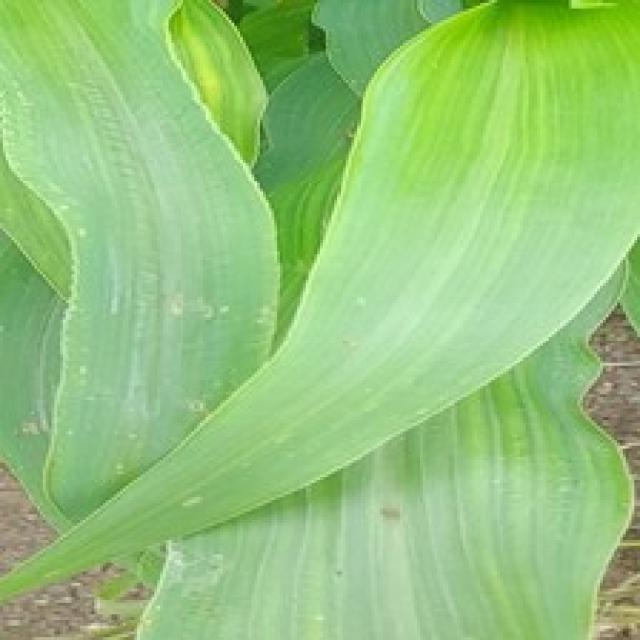Corn: (0, 0, 637, 637), (126, 240, 637, 637), (0, 0, 280, 534)
